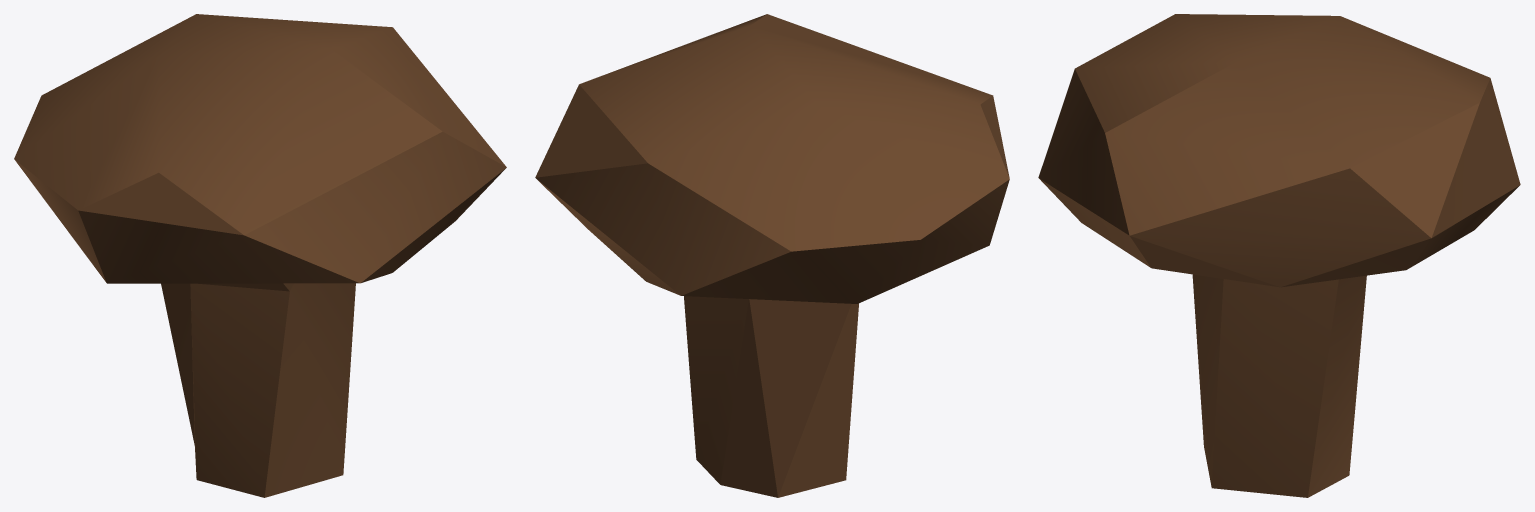
File: mushroom_lod_2.dae
3 renders of one model, left to right at view 1: azimuth 30°, elevation 25°; view 2: azimuth 150°, elevation 25°; view 3: azimuth 270°, elevation 25°, orthographic. The views are drawn at different scales.
Visible parts, largest first — view 1: mushroom; view 2: mushroom; view 3: mushroom.
Boxes of the visible parts, box(x1,y1,x2,y2) form: mushroom: box(14, 14, 506, 497); mushroom: box(535, 14, 1009, 497); mushroom: box(1038, 14, 1520, 497).
Bounding box in the file's own units: 0.1684 × 0.1806 × 0.176.
